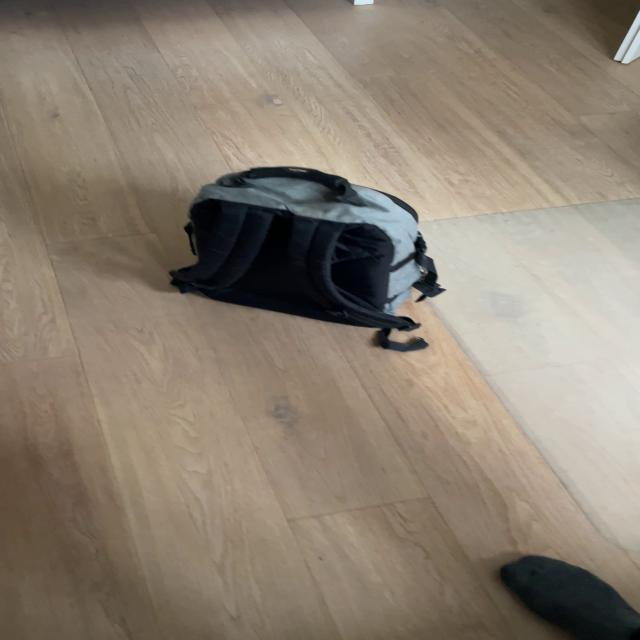backpack: (168, 159, 449, 337)
